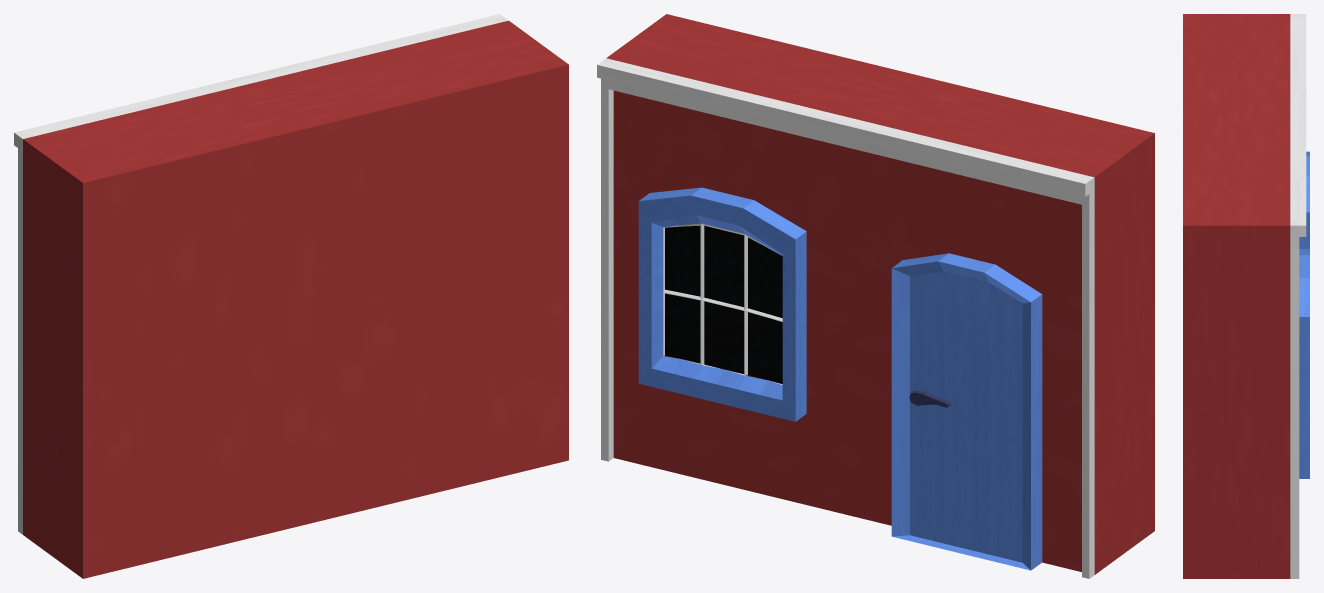
File: casaflo2vermelho.gltf
3 views of the same model, side by side, from view 1: azimuth 30°, elevation 25°; view 2: azimuth 150°, elevation 25°; view 3: azimuth 270°, elevation 25° (orthographic). The views are drawn at different scales.
Parts seen in each view (by area): view 1: cuboid; view 2: cuboid (×3); view 3: cuboid (×3).
Boxes of the visible parts, x1,y1,x2,y2 form: cuboid: (14, 14, 568, 578); cuboid (×3): (597, 14, 1154, 578); cuboid (×3): (1183, 14, 1309, 578).
Bounding box in the file's own units: 1.75 × 1.36 × 0.4438.
1 material, 1 textured.
